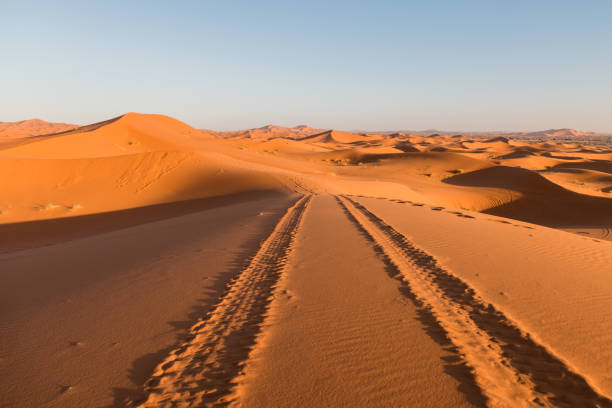vehicle_track: (337, 196, 611, 406), (133, 196, 310, 407)
